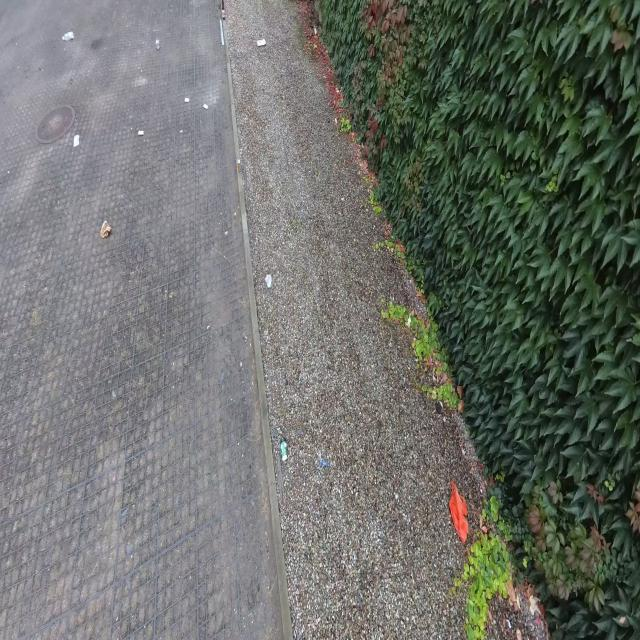rubbish: (447, 482, 469, 541), (99, 220, 112, 238), (280, 438, 287, 461), (219, 19, 224, 45), (62, 30, 74, 40), (265, 272, 272, 287), (256, 37, 266, 47), (73, 133, 79, 148), (203, 101, 210, 110), (221, 0, 224, 20), (156, 38, 160, 50), (321, 461, 328, 467), (138, 129, 144, 135), (184, 97, 190, 103)
